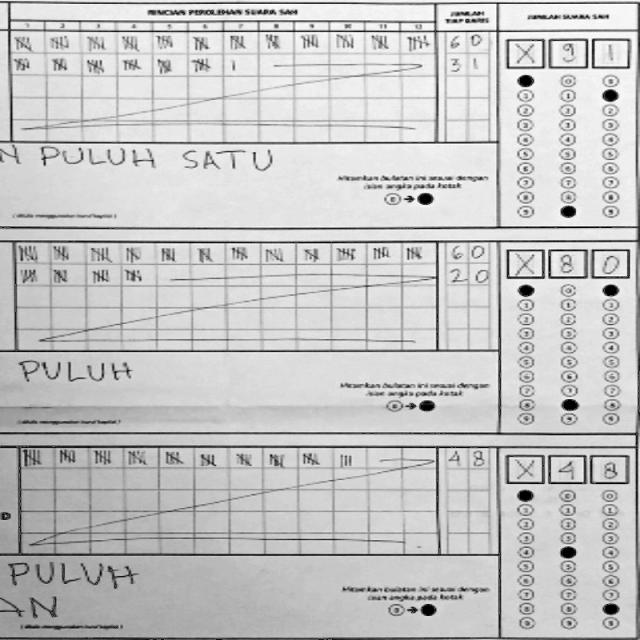Suara: (500, 446, 630, 488), (498, 34, 632, 71), (501, 244, 631, 278)
